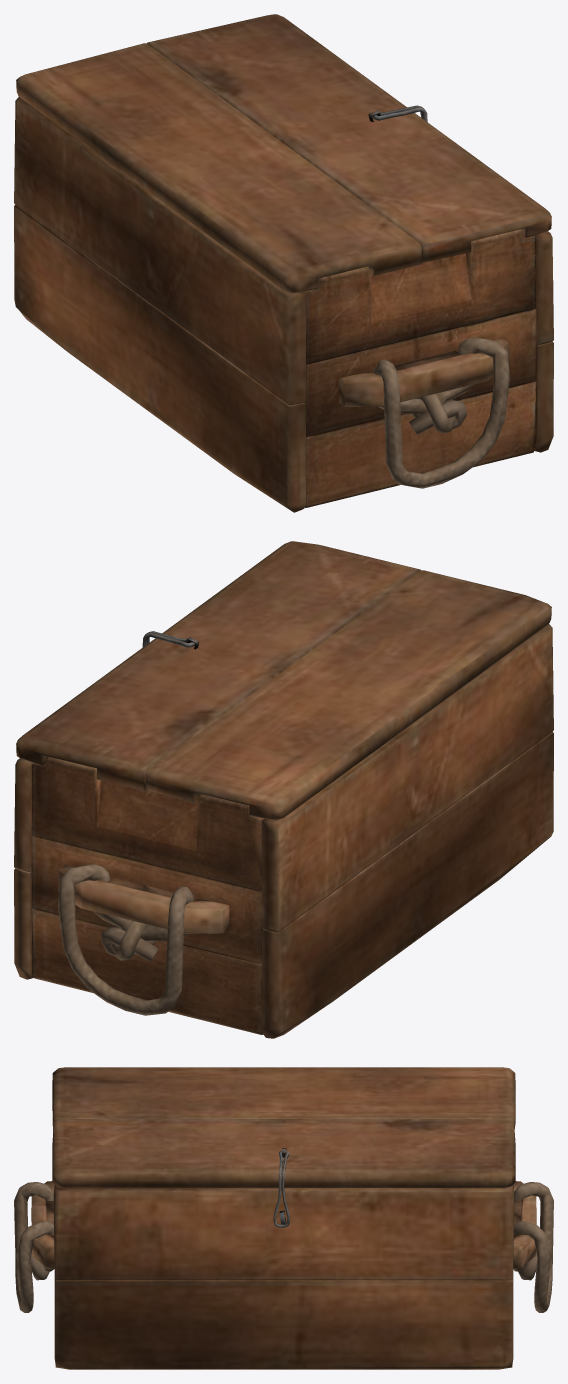
File: wooden_crate_01.glb
3 views of the same model, one above another, from view 1: azimuth 30°, elevation 25°; view 2: azimuth 150°, elevation 25°; view 3: azimuth 270°, elevation 25° (orthographic). The views are drawn at different scales.
Parts seen in each view (by area): view 1: wooden_crate_01, wooden_crate_01_lid; view 2: wooden_crate_01, wooden_crate_01_lid; view 3: wooden_crate_01, wooden_crate_01_lid, wooden_crate_01_latch.
Boxes of the visible parts, x1,y1,x2,y2 form: wooden_crate_01: (14,97,553,512); wooden_crate_01_lid: (16,14,551,293); wooden_crate_01: (14,624,553,1038); wooden_crate_01_lid: (16,541,551,820); wooden_crate_01: (14,1181,553,1369); wooden_crate_01_lid: (52,1067,515,1188); wooden_crate_01_latch: (273,1151,290,1227).
Size of the model in its own units: 0.407 by 0.3486 by 0.8245.
Materials: 1 (1 with a texture image).
